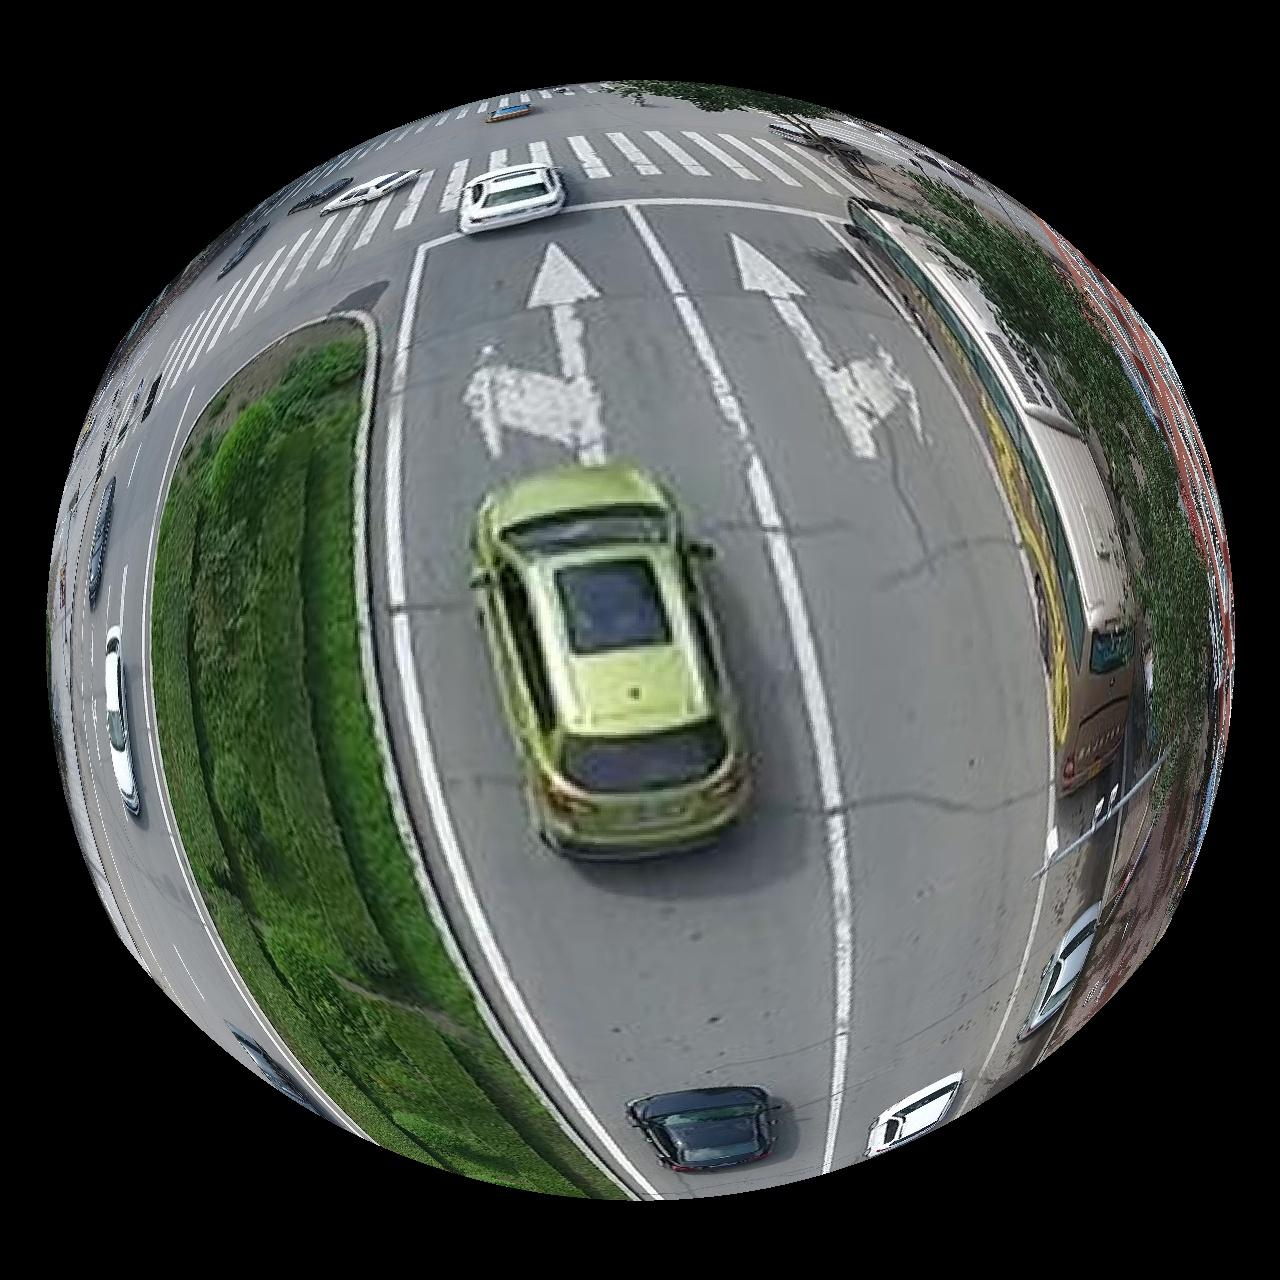cars: (851, 200, 1136, 796), (474, 463, 754, 860), (628, 1089, 779, 1173), (459, 162, 566, 232)
trees: (150, 319, 621, 1198)
